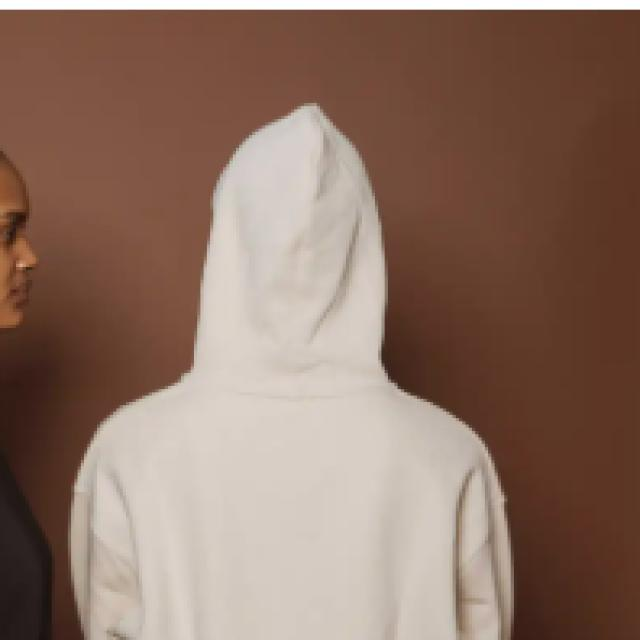4_capucha: (192, 103, 388, 400)
